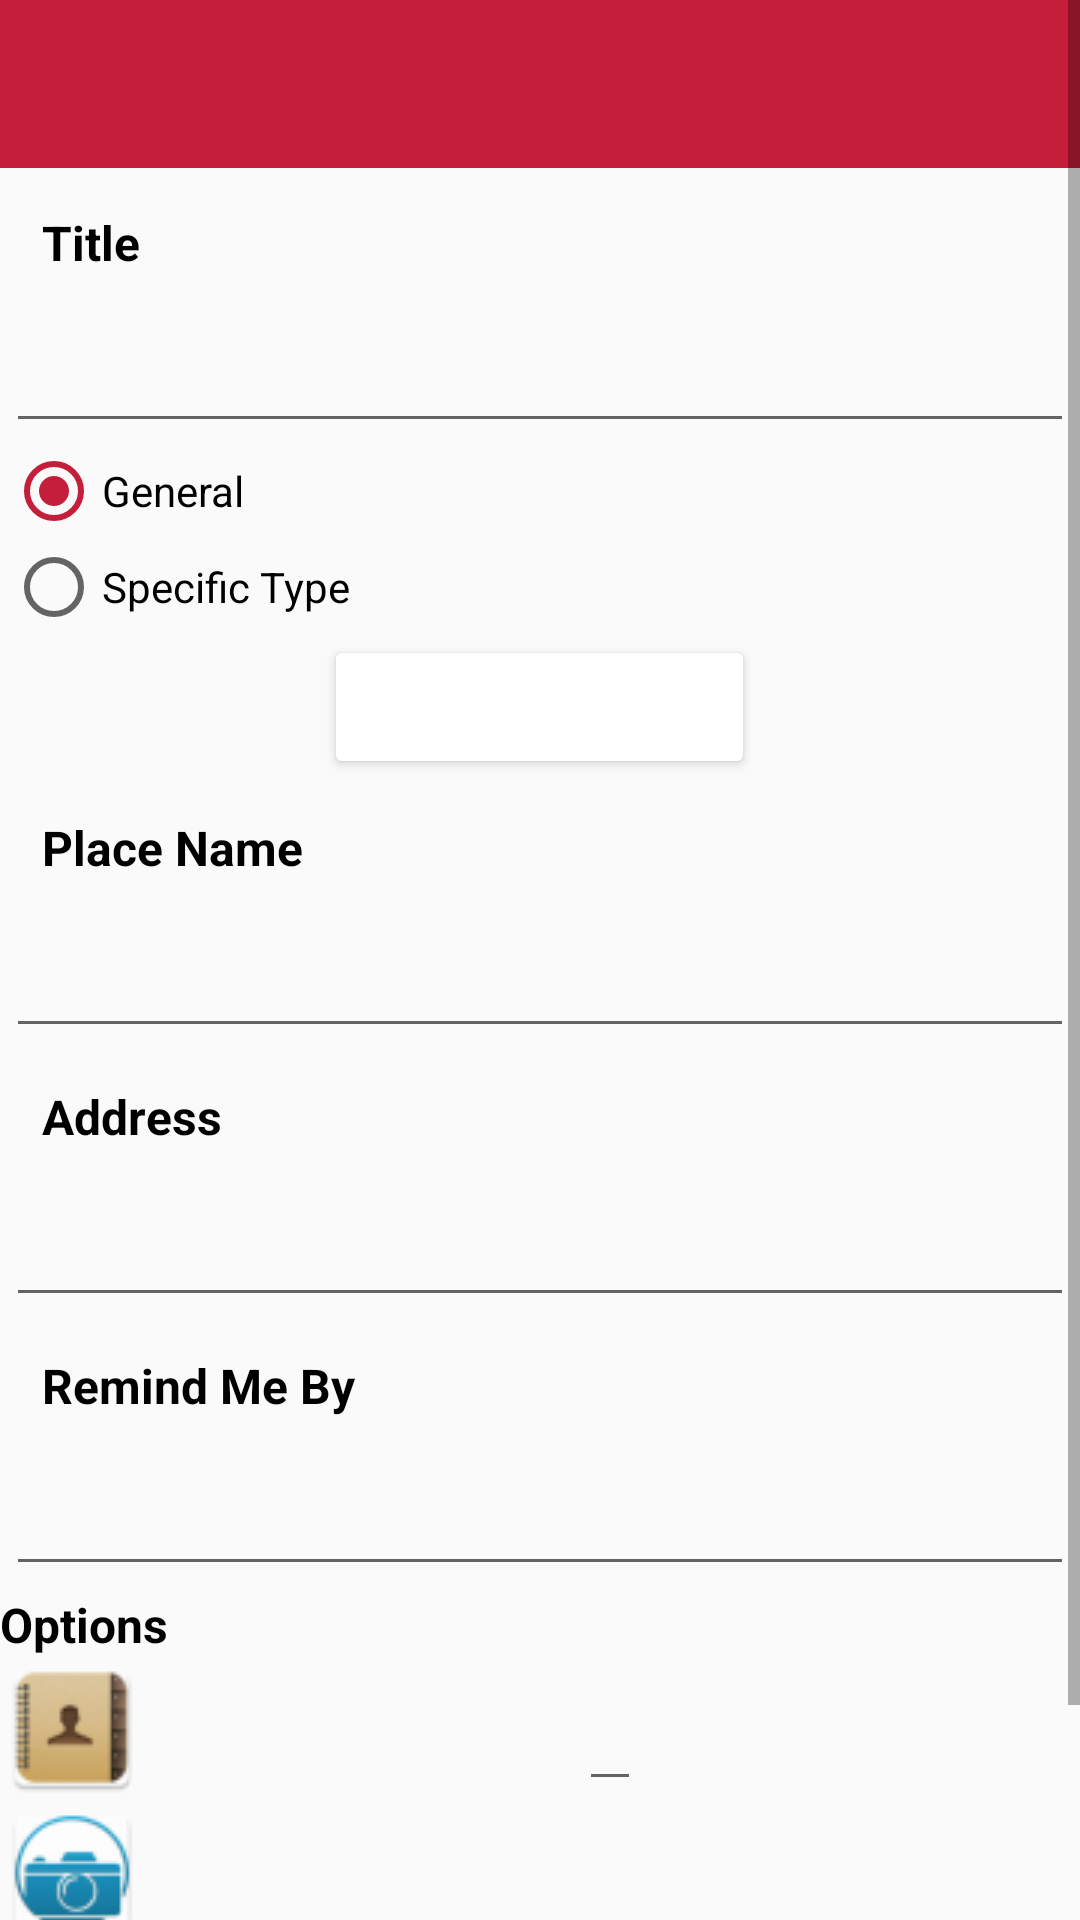

Point at icon controls on the screen. Image size 1080px x 1920px, points as [x,y].
contacts: [72,1730]
